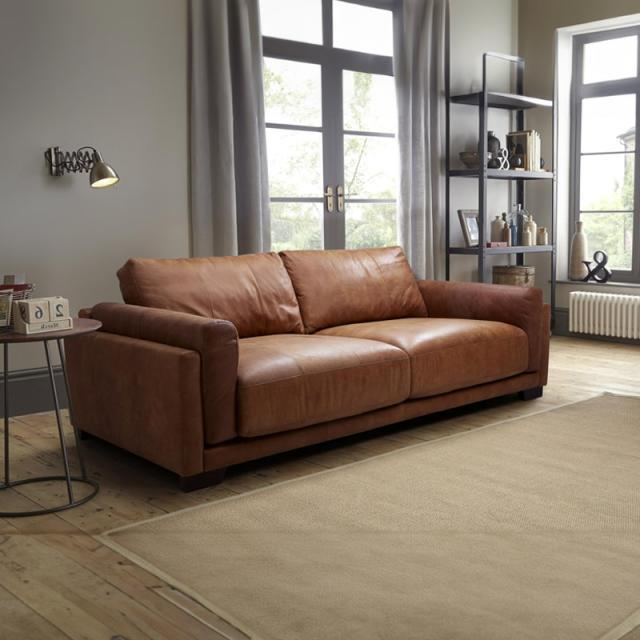sofa: (61, 244, 552, 492)
